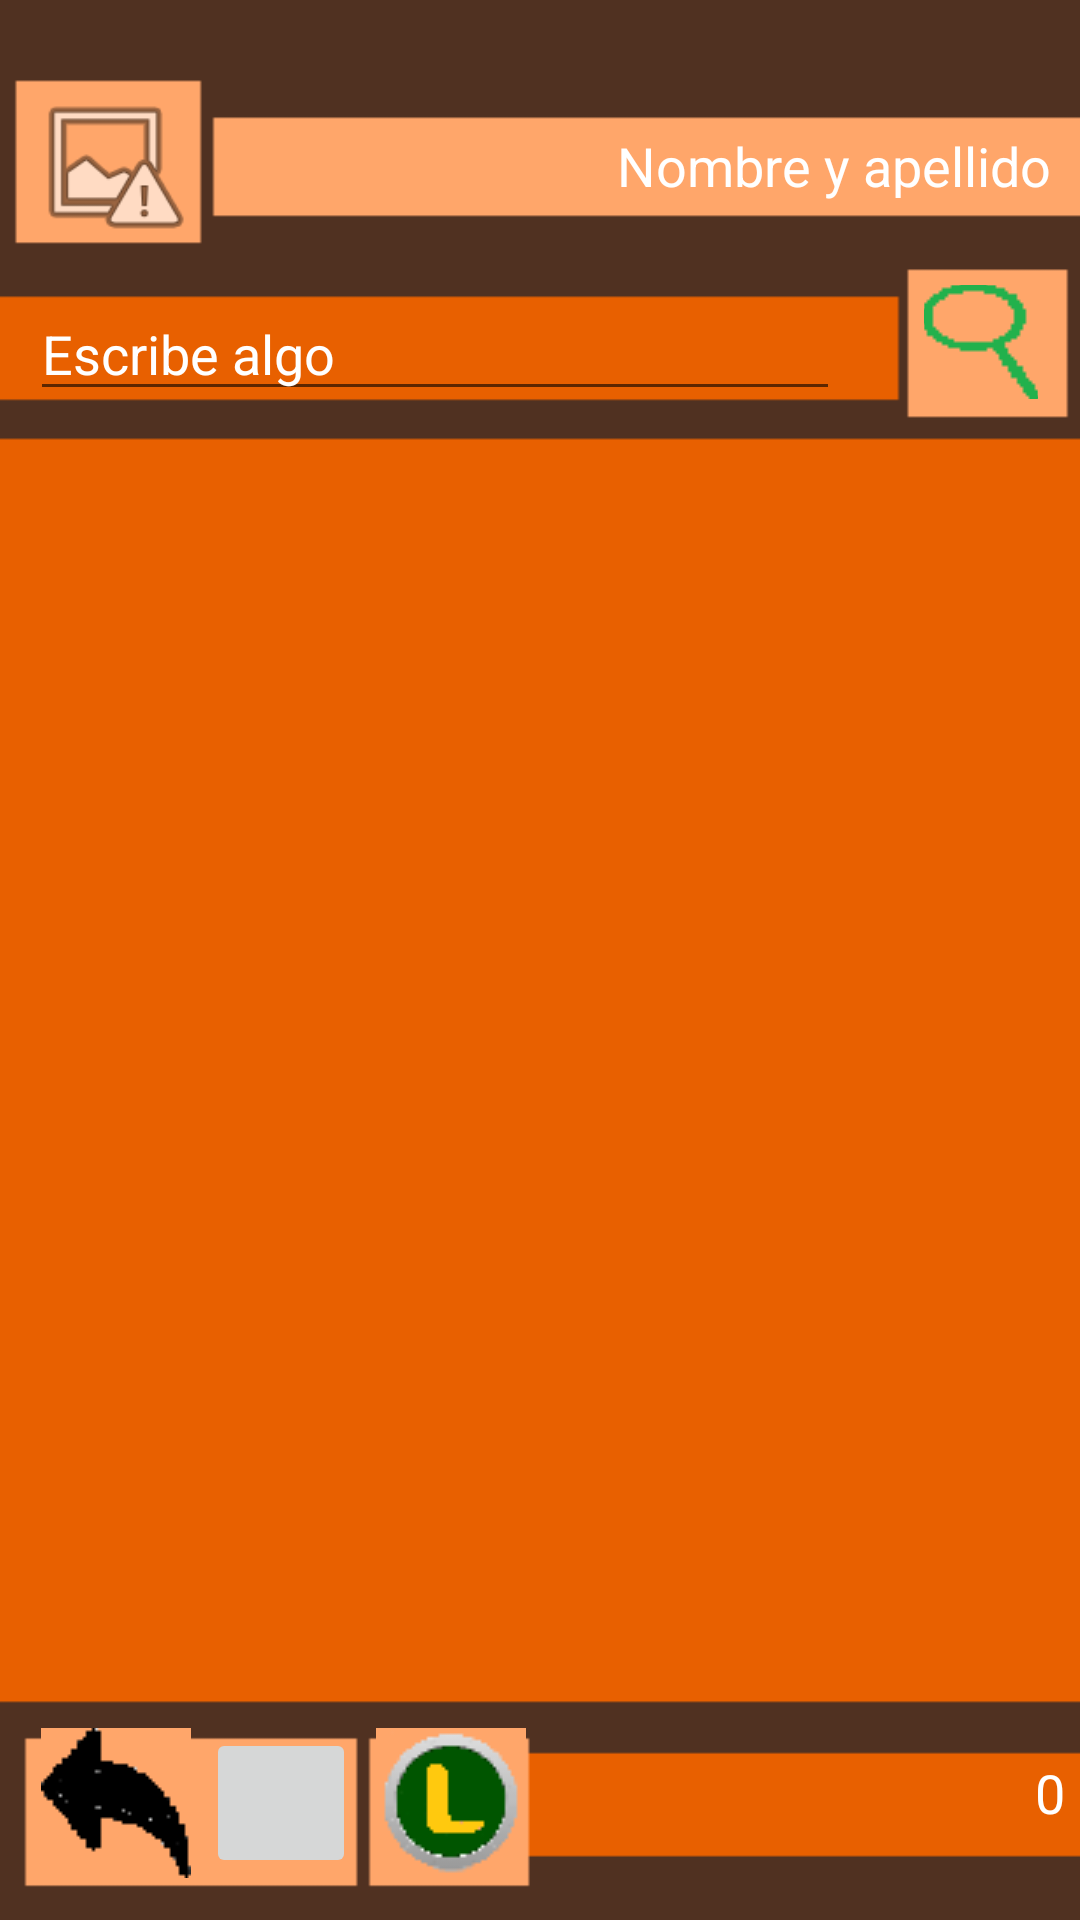

Named icons in this screenshot (1080px x 1920px) and their bounding boxes, (left=x1, top=y1, right=x2, bottom=y2):
atras chico: (left=41, top=1728, right=191, bottom=1878)
buscar: (left=924, top=285, right=1038, bottom=399)
